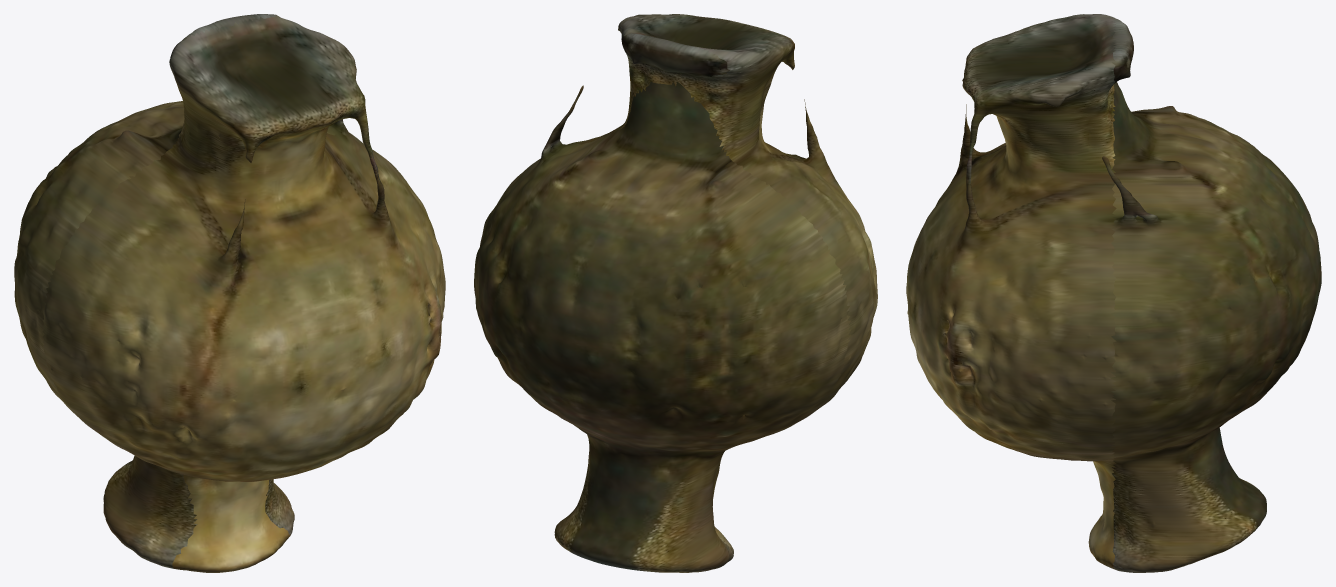
Rendered from kfl-2247.glb.
3 renders of one model, left to right at view 1: azimuth 30°, elevation 25°; view 2: azimuth 150°, elevation 25°; view 3: azimuth 270°, elevation 25°, orthographic. The views are drawn at different scales.
Visible parts, largest first — view 1: geometry_0; view 2: geometry_0; view 3: geometry_0.
Part boxes in pixels (box(x1,y1,x2,y2)): geometry_0: box(14, 14, 445, 572); geometry_0: box(474, 14, 877, 572); geometry_0: box(906, 14, 1321, 572).
Bounding box in the file's own units: 0.7234 × 0.996 × 0.7264.
Materials: 1 (1 with a texture image).
